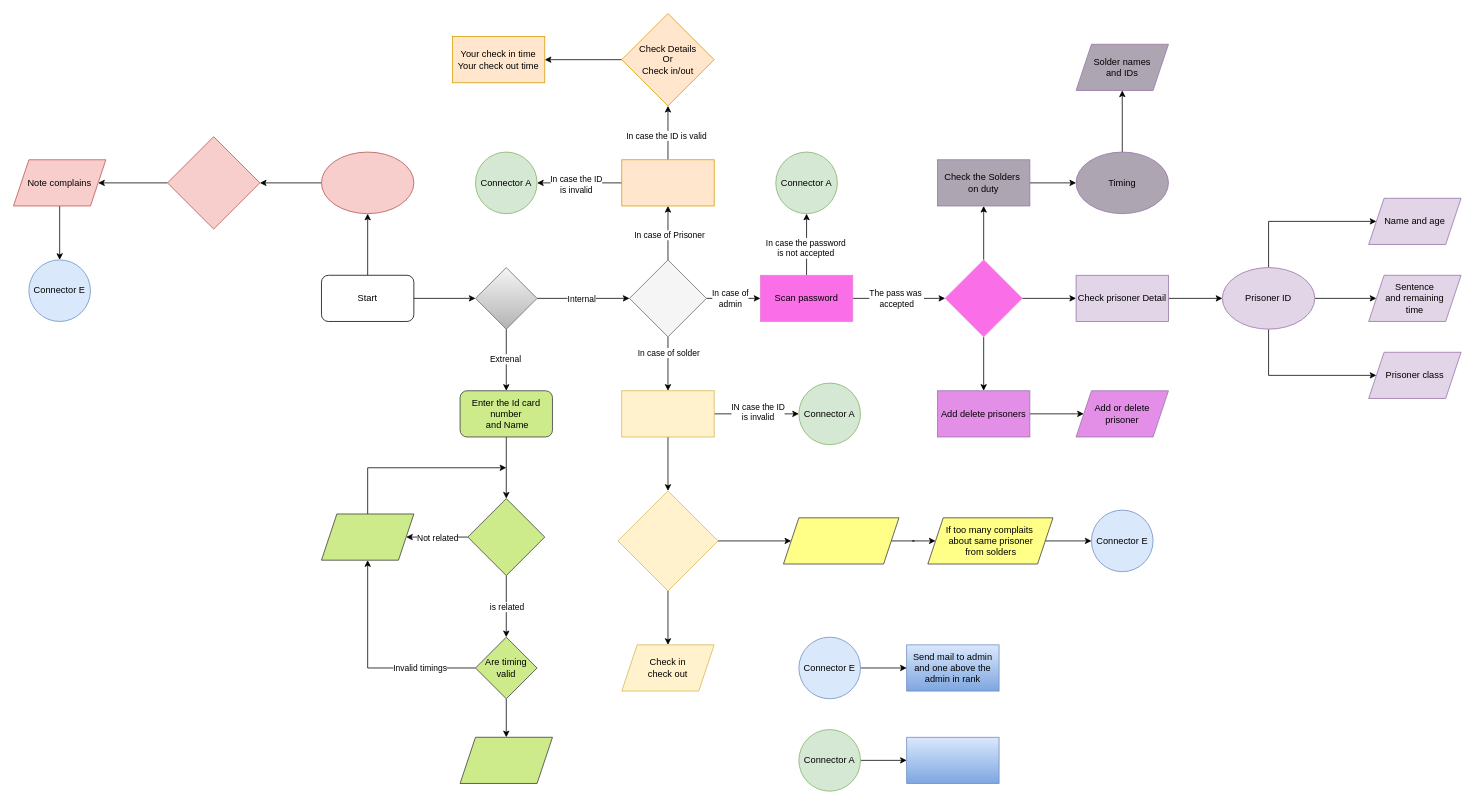
This 1475x805 diagram has some shape labels left out. Here are the shapes that lost their labels. From the top down, the centre of each, then its label:
At (x=213, y=182): "Are you internal external".
At (x=367, y=182): "Comptlains".
At (x=667, y=182): "Scan The ID of Prisoner".
At (x=506, y=298): "Internal External".
At (x=667, y=298): "Admin Prisoner Solder".
At (x=983, y=298): "decision on what to do".
At (x=667, y=413): "Scan the solder ID".
At (x=367, y=536): "Cant meet".
At (x=506, y=537): "If prisoner is related".
At (x=667, y=540): "Complain about prisoner check in/out".
At (x=841, y=540): "Complains can result in penalty for prisoner".
At (x=505, y=760): "Can meet the prisoner".
At (x=952, y=760): "raise an Alert call the guards".
